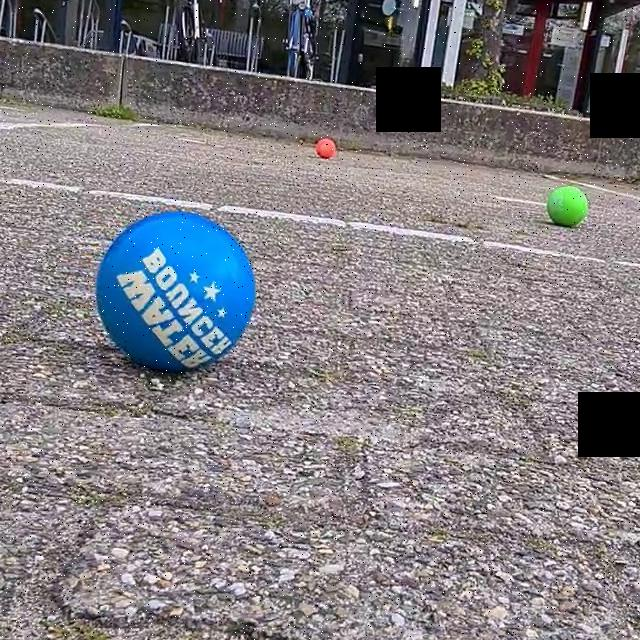ball: (542, 184, 590, 229), (312, 134, 338, 164)
